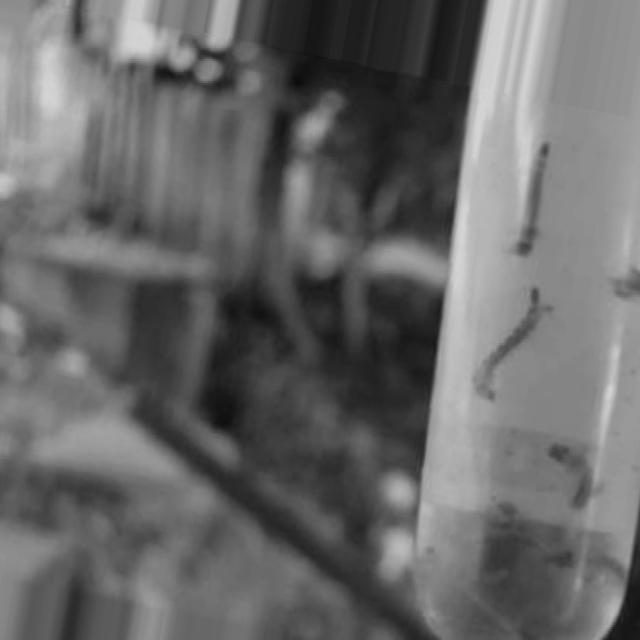larvas: (430, 551, 521, 639), (474, 292, 546, 397), (515, 140, 553, 254), (551, 442, 592, 511), (555, 549, 623, 579), (479, 492, 515, 537), (608, 264, 636, 306)
